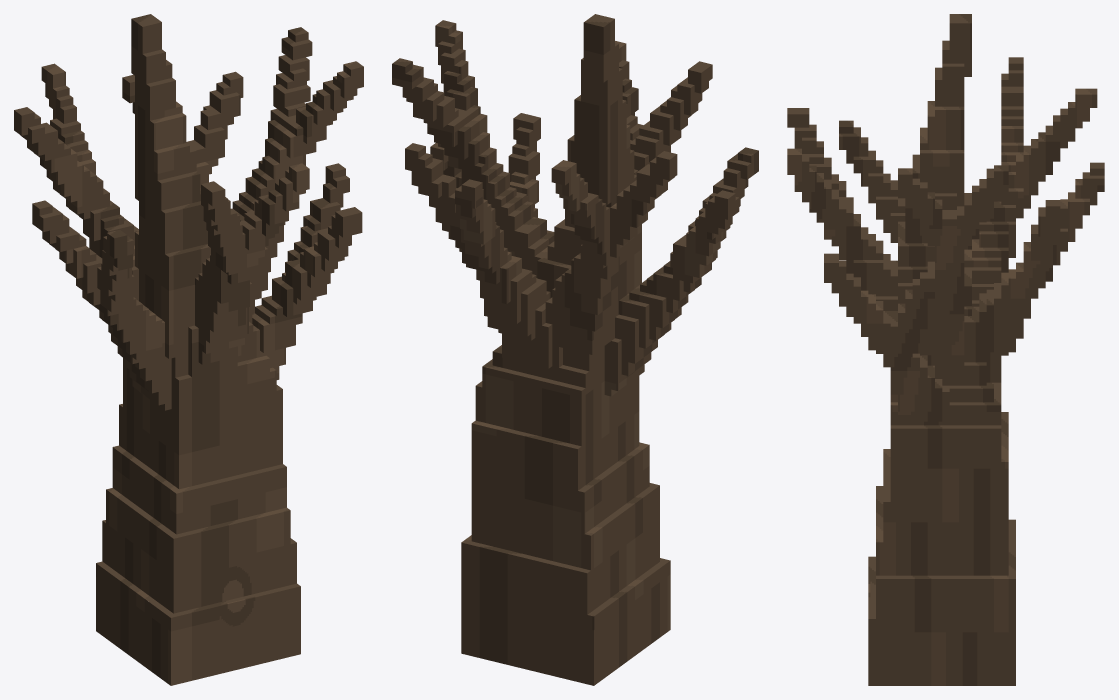
Rendered from oak_ancient_winter_2.glb.
The picture shows the model from 3 angles, left to right: view 1: azimuth 30°, elevation 25°; view 2: azimuth 150°, elevation 25°; view 3: azimuth 270°, elevation 25°; orthographic projection. The views are drawn at different scales.
Visible parts, largest first — view 1: VoxelVisual; view 2: VoxelVisual; view 3: VoxelVisual.
Part boxes in pixels (left/top/right/bottom): VoxelVisual: left=14, top=14, right=363, bottom=685; VoxelVisual: left=392, top=14, right=758, bottom=685; VoxelVisual: left=787, top=14, right=1104, bottom=685.
Size of what is drawn, in the model's own units: 11.75 by 23 by 10.75.
